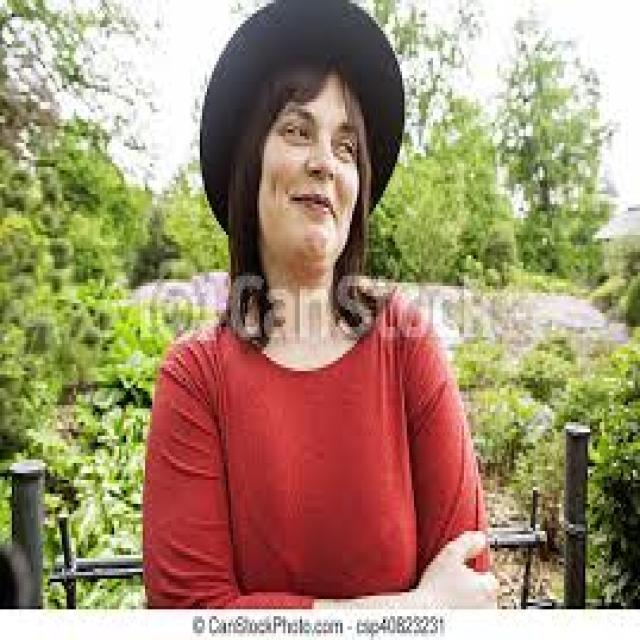hat: (198, 0, 409, 276)
